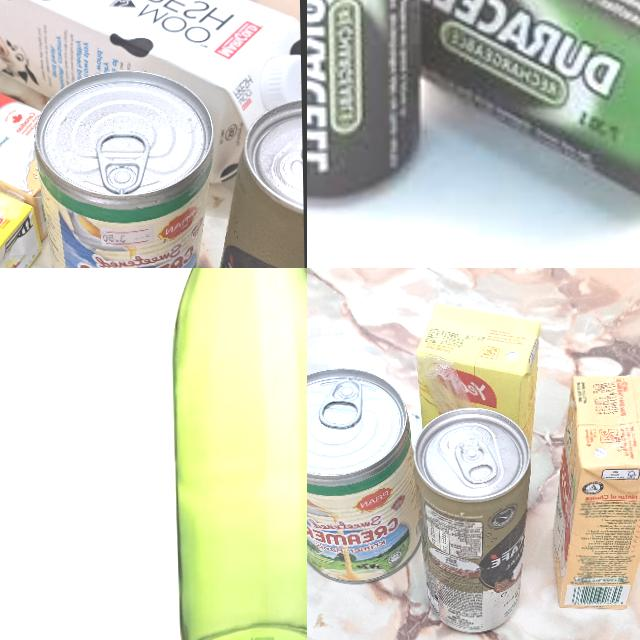aba de lata: (95, 130, 149, 192), (315, 378, 363, 428), (452, 438, 498, 484)
bateria: (409, 0, 640, 210), (307, 0, 425, 202)
caixinha: (0, 0, 302, 183), (548, 373, 640, 609), (412, 302, 542, 452), (0, 54, 40, 201)
garrafa de vidro: (163, 268, 307, 640)
lata: (33, 71, 214, 268), (410, 406, 534, 634), (307, 366, 424, 585), (204, 99, 306, 268)
tampa plástica: (260, 48, 302, 110)
